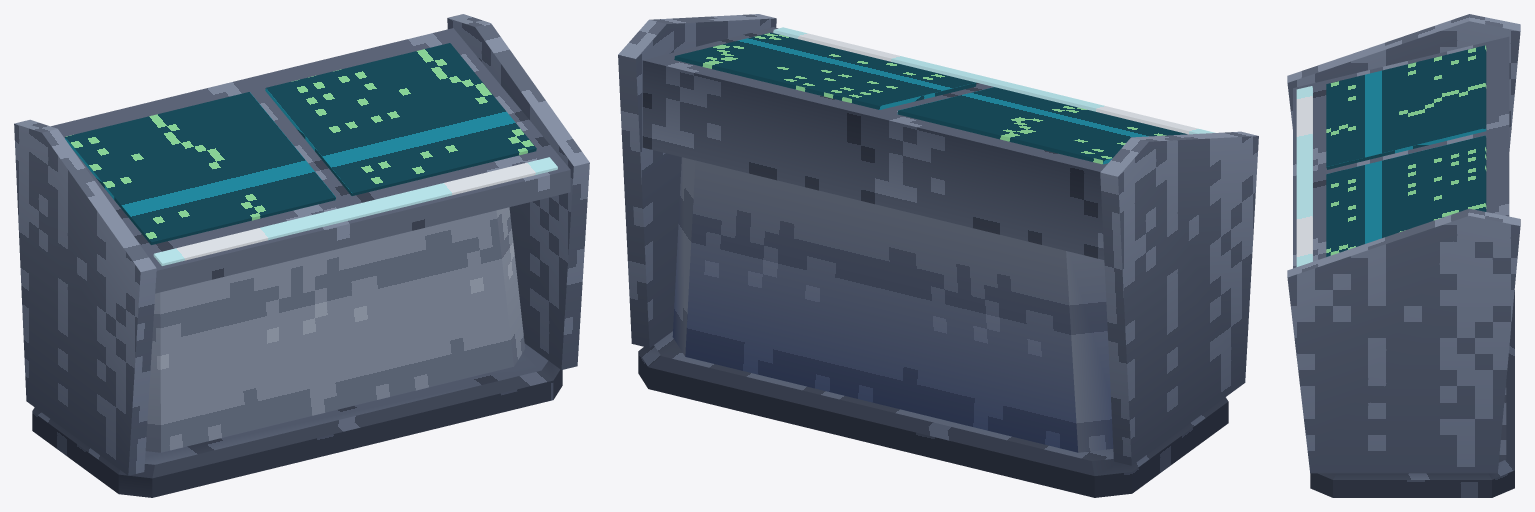
The model's file is tech.console.glb.
3 views of the same model, side by side, from view 1: azimuth 30°, elevation 25°; view 2: azimuth 150°, elevation 25°; view 3: azimuth 270°, elevation 25° (orthographic). The views are drawn at different scales.
Visible parts, largest first — view 1: kit_body, kit_fins, kit_screens, kit_desk, kit_plinth, kit_strip; view 2: kit_body, kit_fins, kit_desk, kit_plinth, kit_screens, kit_strip; view 3: kit_fins, kit_screens, kit_desk, kit_plinth, kit_strip.
Part boxes in pixels (x1,y1,x2,y2): kit_body: (145,207,525,452); kit_fins: (14,14,589,475); kit_screens: (65,43,536,244); kit_desk: (51,28,570,293); kit_plinth: (32,343,562,497); kit_strip: (153,157,557,265); kit_body: (672,157,1113,452); kit_fins: (618,14,1258,465); kit_desk: (642,27,1107,259); kit_plinth: (638,331,1228,497); kit_screens: (674,32,1186,164); kit_strip: (773,27,1215,134); kit_fins: (1287,14,1520,473); kit_screens: (1326,45,1486,256); kit_desk: (1293,36,1509,268); kit_plinth: (1310,290,1514,497); kit_strip: (1296,86,1312,266).
Size of the model in its own units: 1.68 by 1.1 by 0.82.
Materials: 6 (6 with a texture image).
